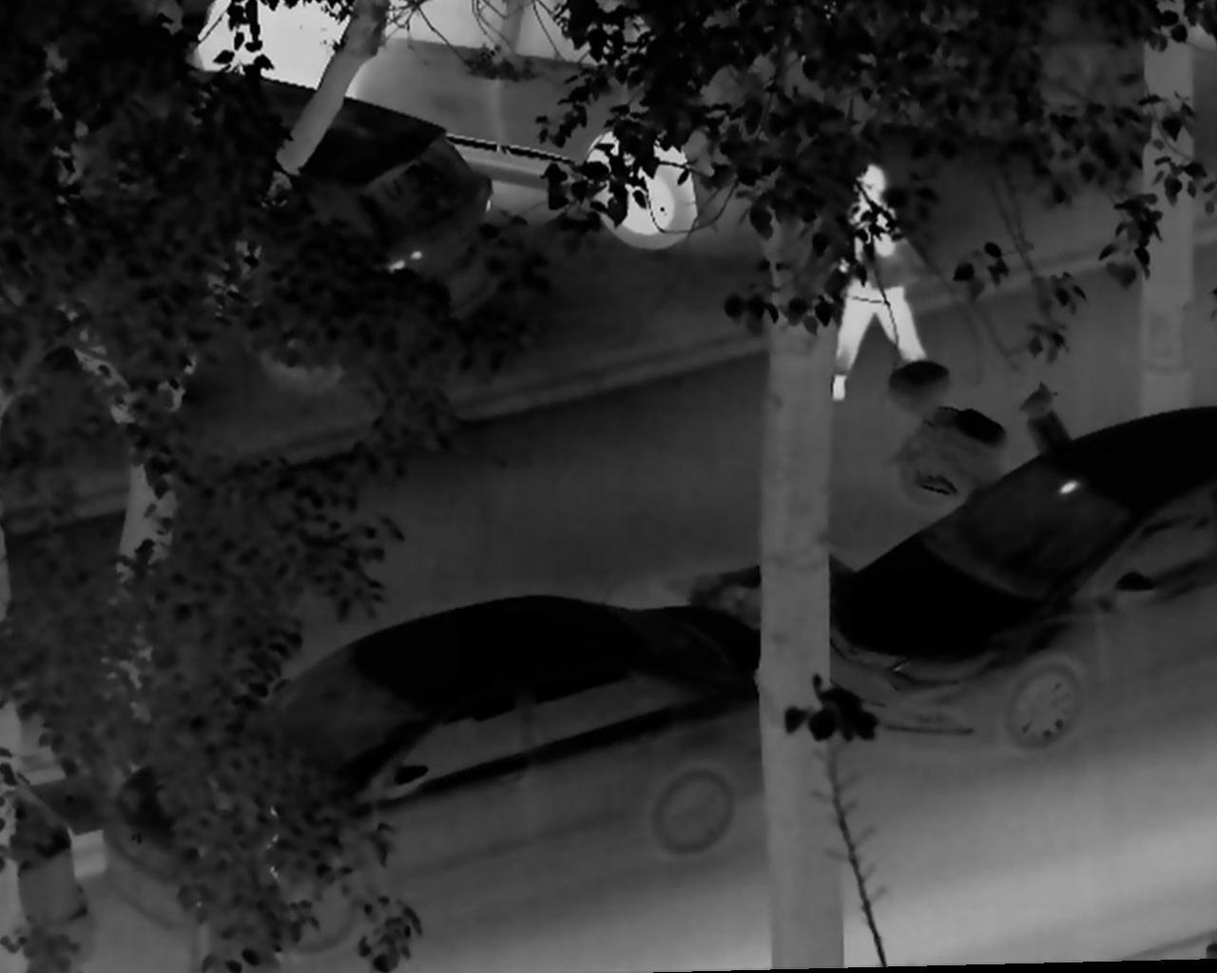person: (829, 159, 929, 404)
